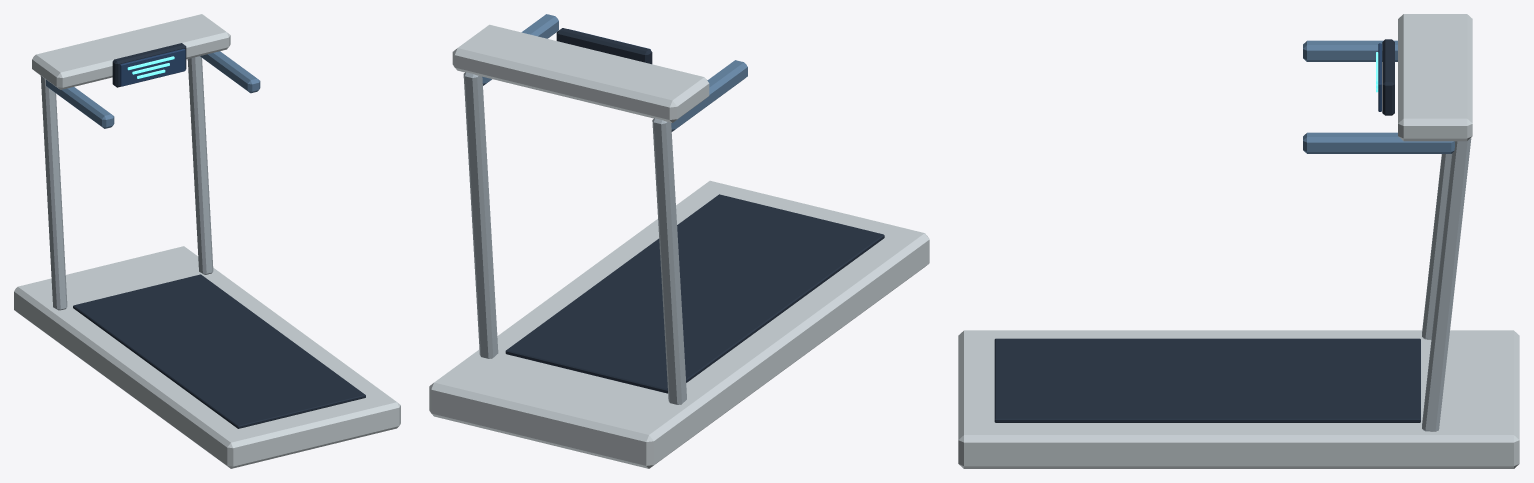
File: lounge_07.glb
3 renders of one model, left to right at view 1: azimuth 30°, elevation 25°; view 2: azimuth 150°, elevation 25°; view 3: azimuth 270°, elevation 25°, orthographic. The views are drawn at different scales.
Parts seen in each view (by area): view 1: TreadmillDeck, RunningBelt, HandrailStem (×2), ControlBar, HandleGrip (×2), Screen, MonitorFrame; view 2: TreadmillDeck, RunningBelt, ControlBar, HandrailStem (×2), HandleGrip (×2), MonitorFrame; view 3: TreadmillDeck, RunningBelt, ControlBar, HandrailStem (×2), HandleGrip (×2), MonitorFrame.
Boxes of the visible parts, x1=… form: TreadmillDeck: x1=14, y1=246, x2=400, y2=468; RunningBelt: x1=73, y1=274, x2=365, y2=428; HandrailStem (×2): x1=40, y1=56, x2=213, y2=310; ControlBar: x1=32, y1=14, x2=230, y2=89; HandleGrip (×2): x1=46, y1=51, x2=260, y2=128; Screen: x1=120, y1=48, x2=185, y2=86; MonitorFrame: x1=112, y1=43, x2=186, y2=87; TreadmillDeck: x1=429, y1=180, x2=929, y2=468; RunningBelt: x1=505, y1=194, x2=884, y2=393; ControlBar: x1=452, y1=24, x2=709, y2=122; HandrailStem (×2): x1=463, y1=72, x2=686, y2=404; HandleGrip (×2): x1=482, y1=14, x2=747, y2=131; MonitorFrame: x1=556, y1=28, x2=652, y2=64; TreadmillDeck: x1=958, y1=330, x2=1519, y2=468; RunningBelt: x1=994, y1=338, x2=1420, y2=422; ControlBar: x1=1398, y1=14, x2=1472, y2=141; HandrailStem (×2): x1=1422, y1=138, x2=1471, y2=431; HandleGrip (×2): x1=1303, y1=40, x2=1454, y2=153; MonitorFrame: x1=1382, y1=39, x2=1394, y2=115.
Size of the model in its own units: 0.83 by 1.26 by 1.8.
